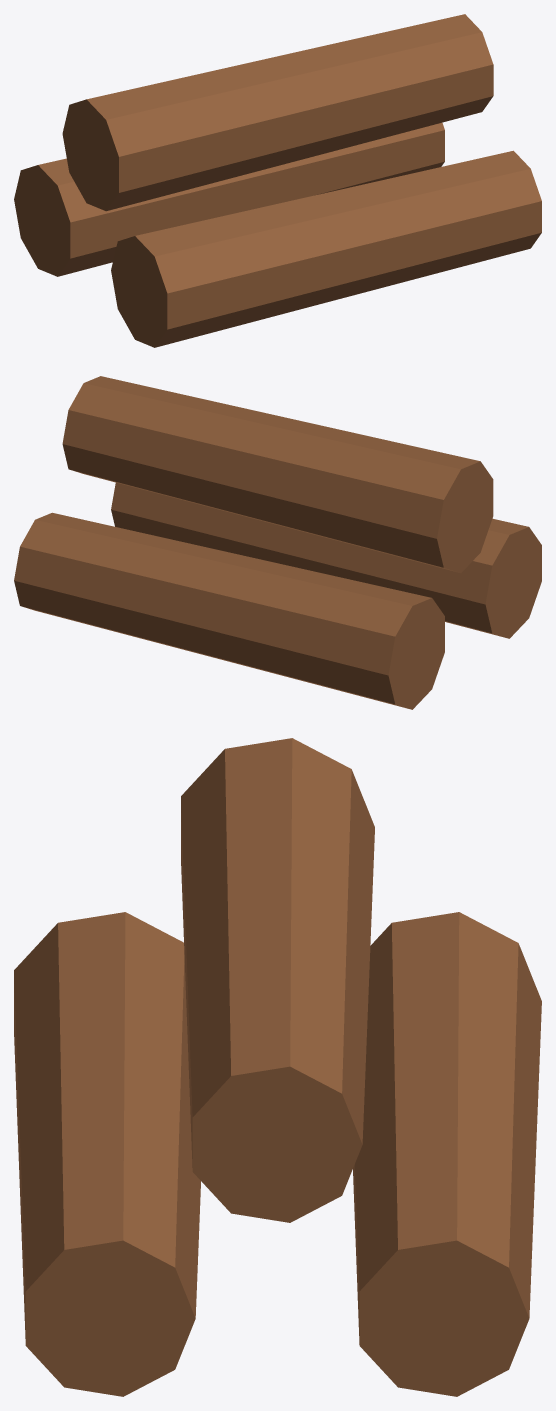
Rendered from log_stack.glb.
3 renders of one model, top to bottom at view 1: azimuth 30°, elevation 25°; view 2: azimuth 150°, elevation 25°; view 3: azimuth 270°, elevation 25°, orthographic. The views are drawn at different scales.
Visible parts, largest first — view 1: Alfa_log_stack; view 2: Alfa_log_stack; view 3: Alfa_log_stack.
Boxes of the visible parts, x1,y1,x2,y2 form: Alfa_log_stack: [14, 14, 541, 347]; Alfa_log_stack: [14, 376, 541, 709]; Alfa_log_stack: [14, 738, 541, 1396].
Bounding box in the file's own units: 0.9 × 0.4664 × 0.6328.
